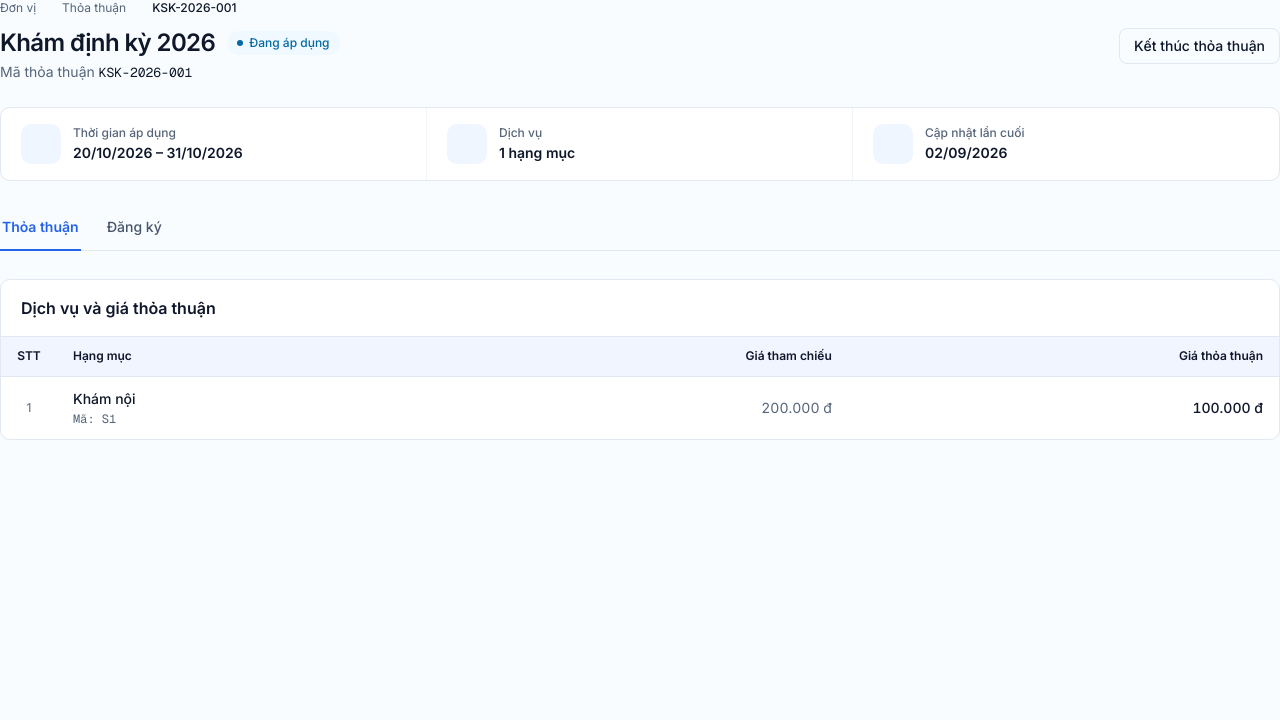
Test case: end a health examination agreement › is offered on an active agreement to a session with the end permission
Click the button "Kết thúc thỏa thuận": [1199, 46] box [1119,28,1279,64]
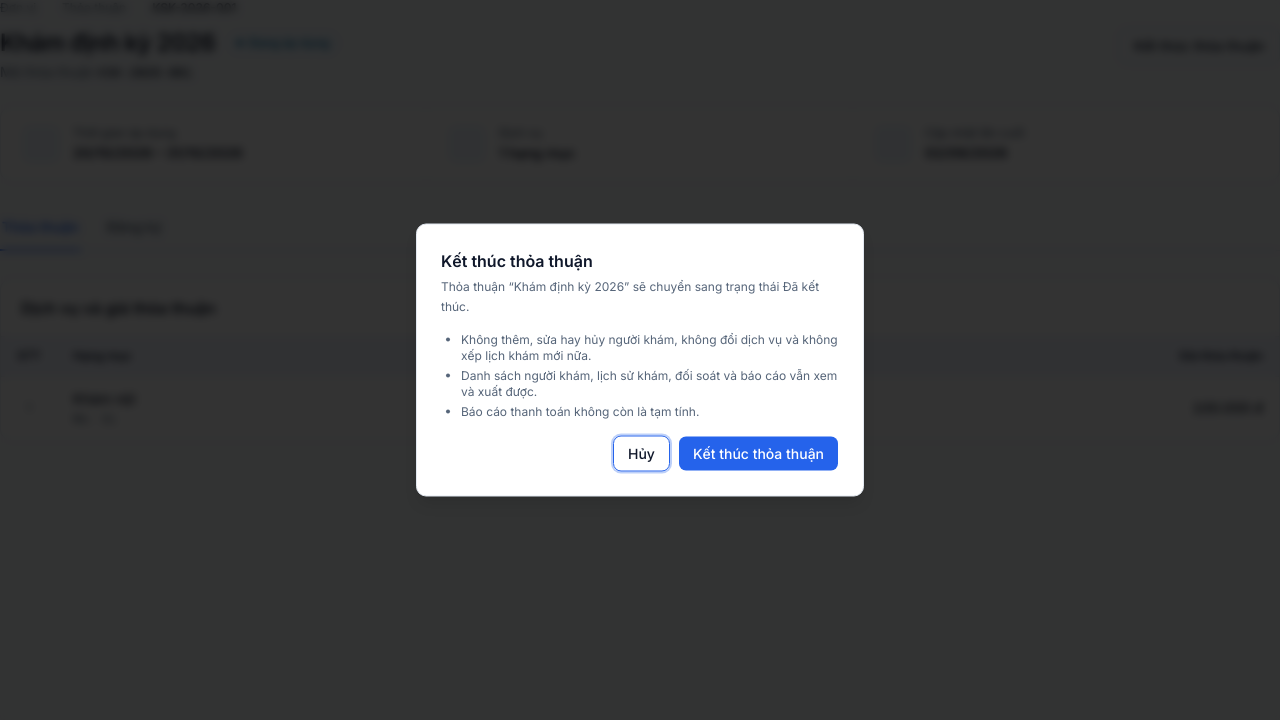
Click the button "Kết thúc thỏa thuận": [758, 454] box [678,436,839,472]
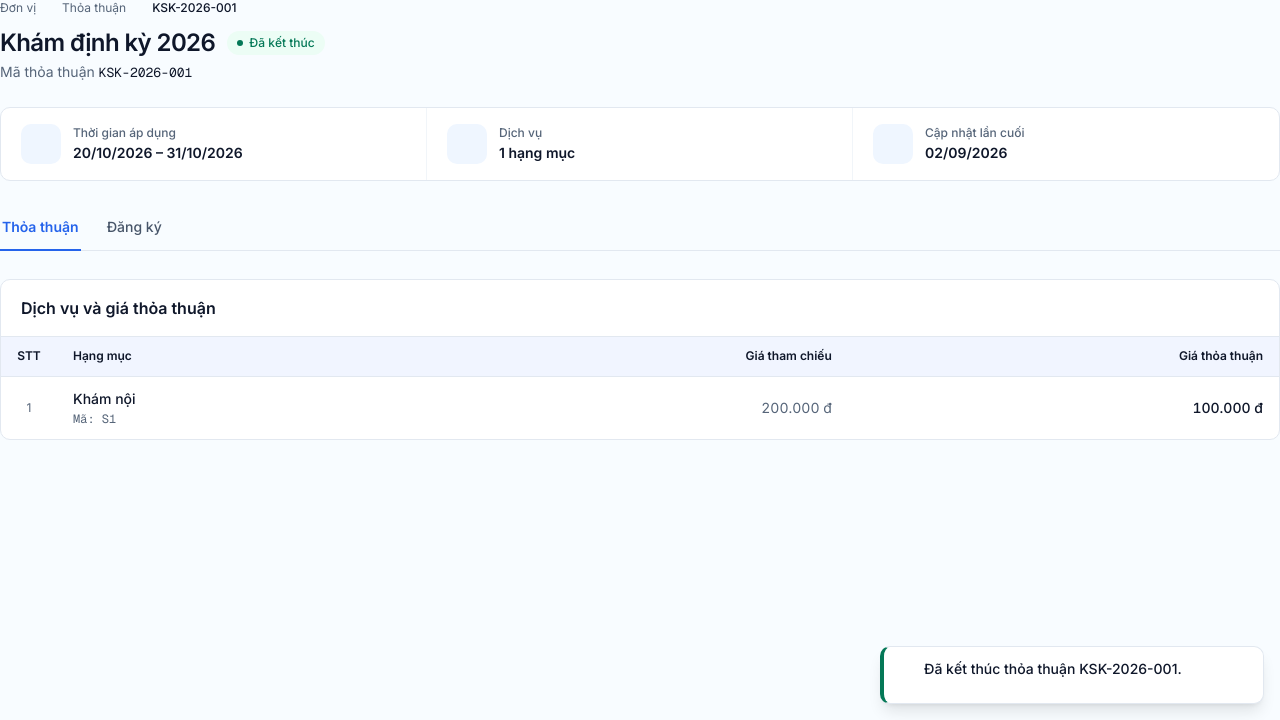
Result: the text "Đã kết thúc" is shown at [227,31,325,55]
